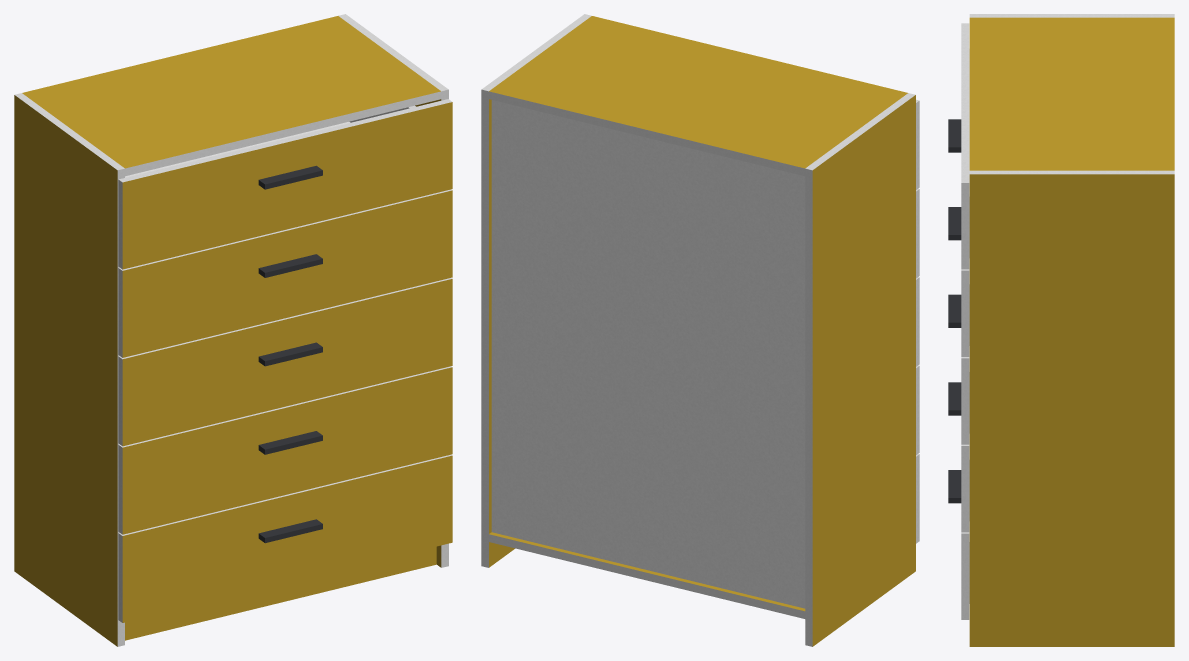
Rendered from FET-CHT-tall.glb.
3 views of the same model, side by side, from view 1: azimuth 30°, elevation 25°; view 2: azimuth 150°, elevation 25°; view 3: azimuth 270°, elevation 25° (orthographic).
Visible parts, largest first — view 1: side-l:pbr, top:pbr, d2-front:pbr, d4-front:pbr, d1-front:pbr, d3-front:pbr, d5-front:pbr, plinth:pbr, pull, top:sheet:eyJtIjoibWRmIiwic2lkZSI6ImVkZ2UtbG9uZyIsInNlZWQiOj, d5-front:sheet:eyJtIjoibWRmIiwic2lkZSI6ImVkZ2UtbG9uZyIsInNlZ, side-l:sheet:eyJtIjoibWRmIiwic2lkZSI6ImVkZ2UtbG9uZyIsInNlZWQ (+6 smaller); view 2: back:sheet:eyJtIjoibWRmIiwic2lkZSI6ImZhY2UiLCJzZWVkIjo0LCJ0a, side-l:pbr, top:pbr, side-r:sheet:eyJtIjoibWRmIiwic2lkZSI6ImVkZ2UtbG9uZyIsInNlZWQ, side-l:sheet:eyJtIjoibWRmIiwic2lkZSI6ImVkZ2UtbG9uZyIsInNlZWQ, top:sheet:eyJtIjoibWRmIiwic2lkZSI6ImVkZ2UtbG9uZyIsInNlZWQiOj, bottom:sheet:eyJtIjoibWRmIiwic2lkZSI6ImVkZ2UtbG9uZyIsInNlZWQ, side-r:pbr, bottom:pbr, side-r:sheet:eyJtIjoibWRmIiwic2lkZSI6ImVkZ2UtZW5kIiwic2VlZCI, side-l:sheet:eyJtIjoibWRmIiwic2lkZSI6ImVkZ2UtZW5kIiwic2VlZCI; view 3: side-r:pbr, top:pbr, pull, d5-front:sheet:eyJtIjoibWRmIiwic2lkZSI6ImVkZ2UtbG9uZyIsInNlZ, side-r:sheet:eyJtIjoibWRmIiwic2lkZSI6ImVkZ2UtZW5kIiwic2VlZCI, side-l:sheet:eyJtIjoibWRmIiwic2lkZSI6ImVkZ2UtZW5kIiwic2VlZCI, d3-front:sheet:eyJtIjoibWRmIiwic2lkZSI6ImVkZ2UtZW5kIiwic2VlZ, d1-front:sheet:eyJtIjoibWRmIiwic2lkZSI6ImVkZ2UtZW5kIiwic2VlZ, d2-front:sheet:eyJtIjoibWRmIiwic2lkZSI6ImVkZ2UtZW5kIiwic2VlZ, d4-front:sheet:eyJtIjoibWRmIiwic2lkZSI6ImVkZ2UtZW5kIiwic2VlZ, d5-front:sheet:eyJtIjoibWRmIiwic2lkZSI6ImVkZ2UtZW5kIiwic2VlZ.
Boxes of the visible parts, box(x1,y1,x2,y2) form: side-l:pbr: box(14, 95, 117, 646); top:pbr: box(22, 16, 440, 168); d2-front:pbr: box(122, 367, 452, 534); d4-front:pbr: box(122, 190, 452, 357); d1-front:pbr: box(122, 455, 452, 622); d3-front:pbr: box(122, 279, 452, 446); d5-front:pbr: box(122, 102, 452, 269); plinth:pbr: box(125, 546, 436, 640); pull: box(258, 165, 322, 543); top:sheet:eyJtIjoibWRmIiwic2lkZSI6ImVkZ2UtbG9uZyIsInNlZWQiOj: box(125, 91, 441, 176); d5-front:sheet:eyJtIjoibWRmIiwic2lkZSI6ImVkZ2UtbG9uZyIsInNlZ: box(118, 99, 451, 182); side-l:sheet:eyJtIjoibWRmIiwic2lkZSI6ImVkZ2UtbG9uZyIsInNlZWQ: box(117, 168, 124, 646); back:sheet:eyJtIjoibWRmIiwic2lkZSI6ImZhY2UiLCJzZWVkIjo0LCJ0a: box(491, 100, 805, 608); side-l:pbr: box(812, 95, 915, 646); top:pbr: box(489, 16, 907, 168); side-r:sheet:eyJtIjoibWRmIiwic2lkZSI6ImVkZ2UtbG9uZyIsInNlZWQ: box(481, 89, 488, 567); side-l:sheet:eyJtIjoibWRmIiwic2lkZSI6ImVkZ2UtbG9uZyIsInNlZWQ: box(805, 168, 812, 646); top:sheet:eyJtIjoibWRmIiwic2lkZSI6ImVkZ2UtbG9uZyIsInNlZWQiOj: box(489, 91, 805, 176); bottom:sheet:eyJtIjoibWRmIiwic2lkZSI6ImVkZ2UtbG9uZyIsInNlZWQ: box(489, 534, 805, 618); side-r:pbr: box(489, 99, 514, 567); bottom:pbr: box(489, 532, 805, 611); side-r:sheet:eyJtIjoibWRmIiwic2lkZSI6ImVkZ2UtZW5kIiwic2VlZCI: box(481, 14, 591, 91); side-l:sheet:eyJtIjoibWRmIiwic2lkZSI6ImVkZ2UtZW5kIiwic2VlZCI: box(805, 93, 915, 170); side-r:pbr: box(969, 174, 1174, 646); top:pbr: box(969, 17, 1174, 170); pull: box(948, 119, 961, 503); d5-front:sheet:eyJtIjoibWRmIiwic2lkZSI6ImVkZ2UtbG9uZyIsInNlZ: box(961, 23, 969, 182); side-r:sheet:eyJtIjoibWRmIiwic2lkZSI6ImVkZ2UtZW5kIiwic2VlZCI: box(969, 170, 1174, 174); side-l:sheet:eyJtIjoibWRmIiwic2lkZSI6ImVkZ2UtZW5kIiwic2VlZCI: box(969, 14, 1174, 17); d3-front:sheet:eyJtIjoibWRmIiwic2lkZSI6ImVkZ2UtZW5kIiwic2VlZ: box(961, 358, 969, 444); d1-front:sheet:eyJtIjoibWRmIiwic2lkZSI6ImVkZ2UtZW5kIiwic2VlZ: box(961, 533, 969, 619); d2-front:sheet:eyJtIjoibWRmIiwic2lkZSI6ImVkZ2UtZW5kIiwic2VlZ: box(961, 446, 969, 532); d4-front:sheet:eyJtIjoibWRmIiwic2lkZSI6ImVkZ2UtZW5kIiwic2VlZ: box(961, 270, 969, 356); d5-front:sheet:eyJtIjoibWRmIiwic2lkZSI6ImVkZ2UtZW5kIiwic2VlZ: box(961, 183, 969, 269).
Size of the model in its own units: 0.8 by 1.1 by 0.4769.
Materials: 109 (98 with a texture image).
